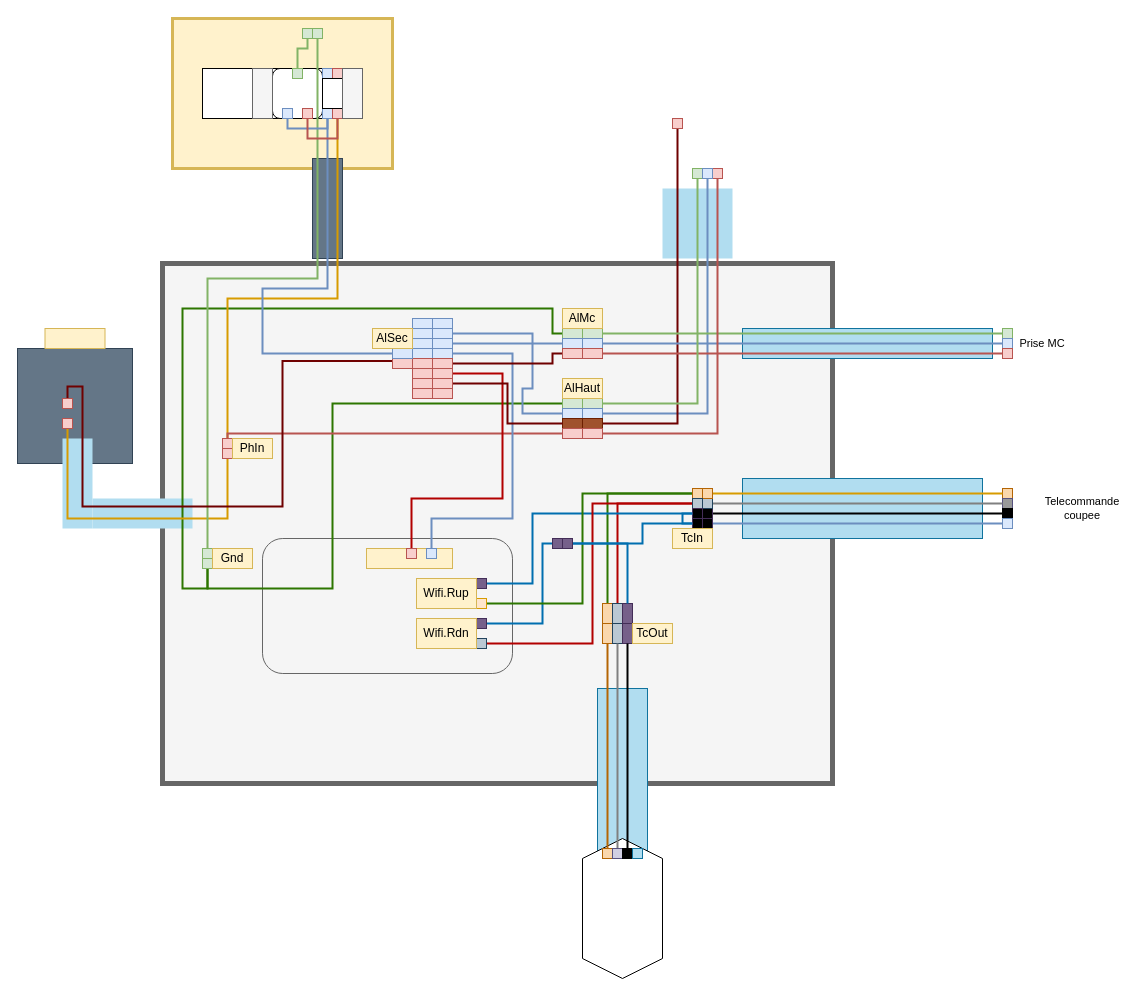
This 1137x996 diagram has some shape labels left out. Here are the shapes that lost their labels. From the top down, the centre of each, then its label:
the point at 332,93: 20A
the point at 74,338: Sec.Bas
the point at 409,558: Wifi.Al
the point at 622,908: TELECOMMANDE
